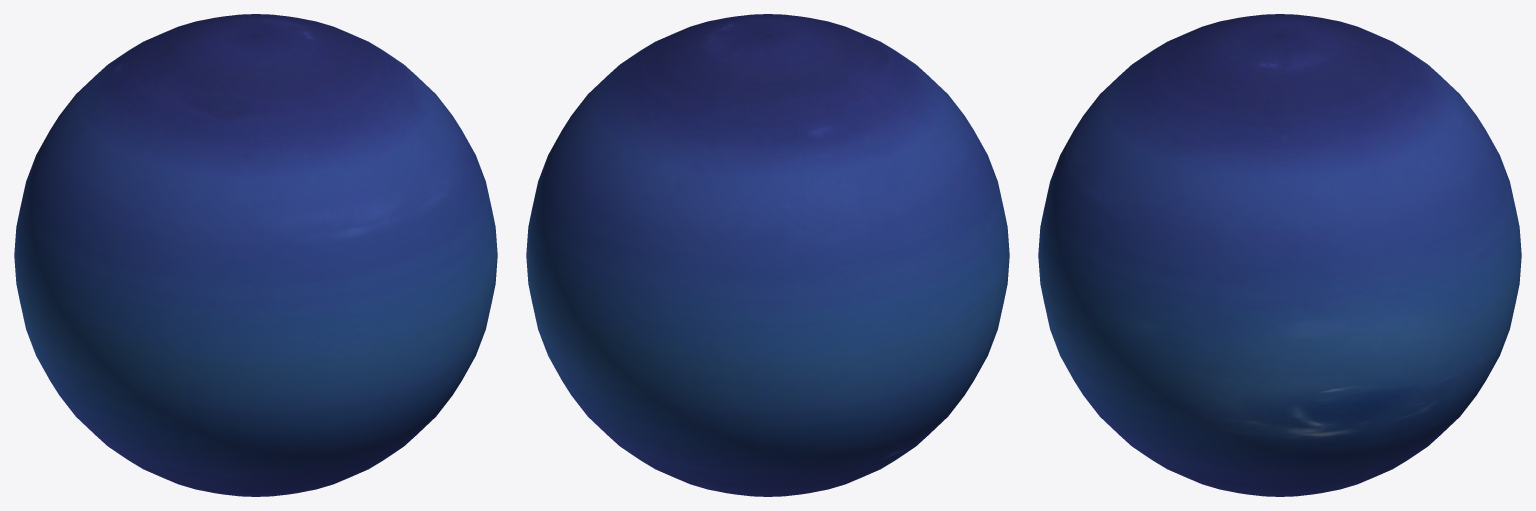
Rendered from neptune.obj.
The picture shows the model from 3 angles, left to right: view 1: azimuth 30°, elevation 25°; view 2: azimuth 150°, elevation 25°; view 3: azimuth 270°, elevation 25°; orthographic projection.
Visible parts, largest first — view 1: neptune_Sphere.008; view 2: neptune_Sphere.008; view 3: neptune_Sphere.008.
Part boxes in pixels (x1,y1,x2,y2): neptune_Sphere.008: (14,14,497,496); neptune_Sphere.008: (526,14,1009,496); neptune_Sphere.008: (1038,14,1521,496).
Bounding box in the file's own units: 0.5421 × 0.5421 × 0.5421.
1 material, 1 textured.
